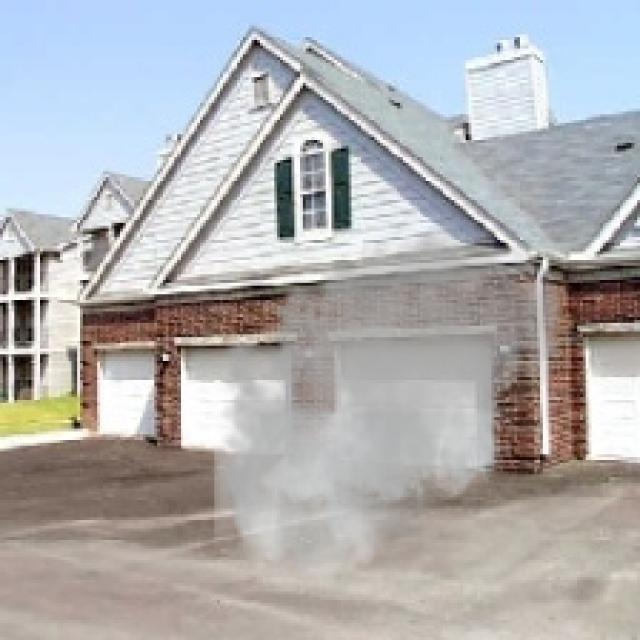Smoke: (199, 212, 572, 592)
